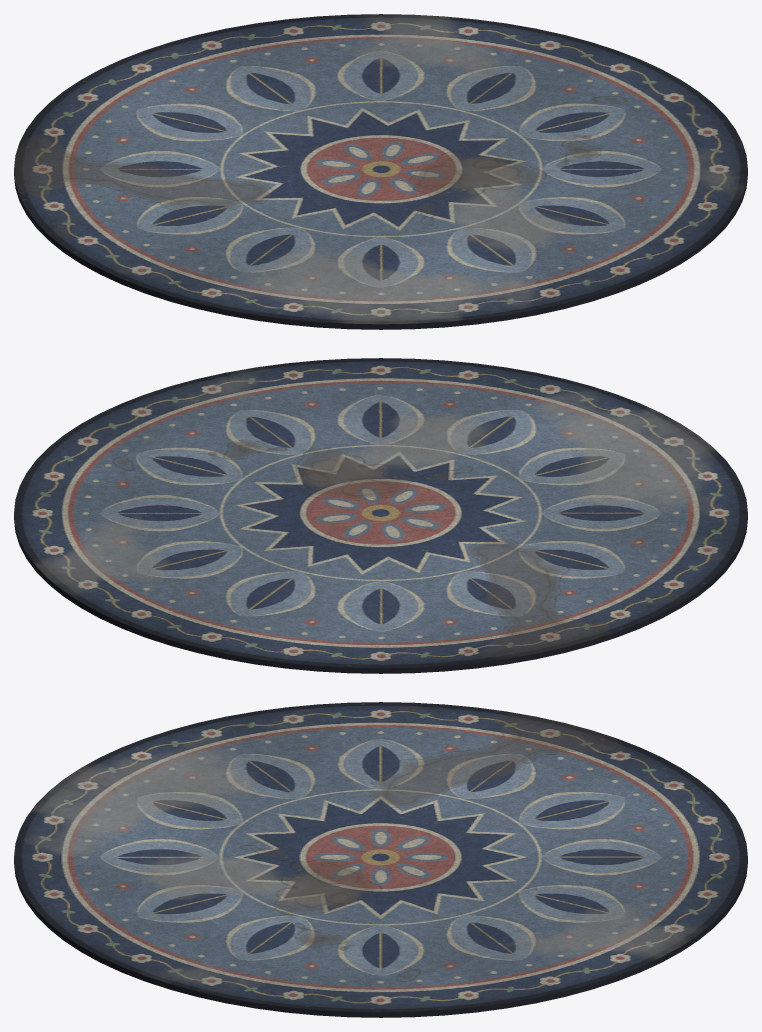
File: bed_rug.obj
3 views of the same model, one above another, from view 1: azimuth 30°, elevation 25°; view 2: azimuth 150°, elevation 25°; view 3: azimuth 270°, elevation 25° (orthographic).
Visible parts, largest first — view 1: bed_rug; view 2: bed_rug; view 3: bed_rug.
Part boxes in pixels (bbox=[...]): bed_rug: bbox=[14, 14, 747, 329]; bed_rug: bbox=[14, 358, 747, 673]; bed_rug: bbox=[14, 702, 747, 1017].
Bounding box in the file's own units: 2.4 × 0.02 × 2.4.
1 material, 1 textured.
